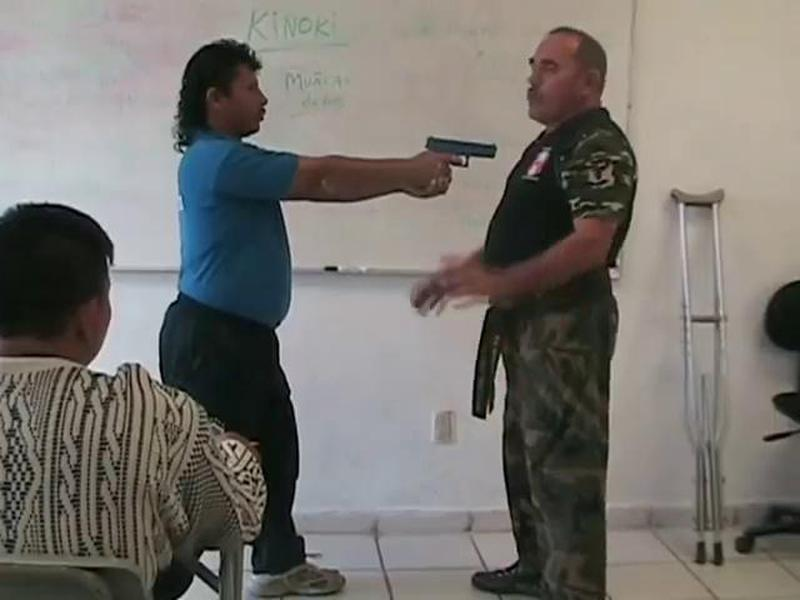Pistola: (407, 122, 511, 211)
